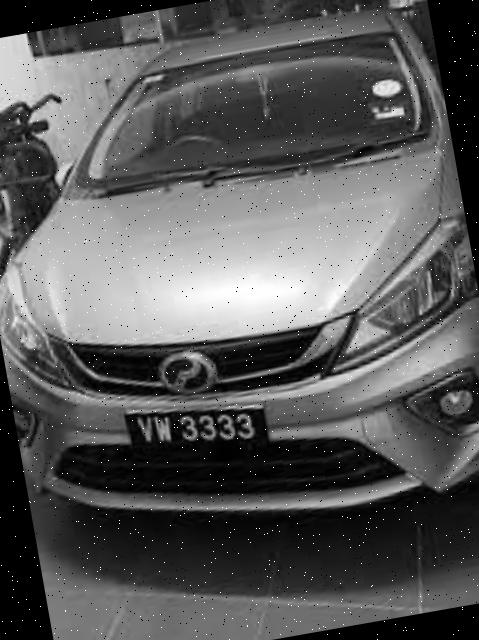License_Plate: (120, 388, 270, 482)
car: (1, 1, 479, 564)
